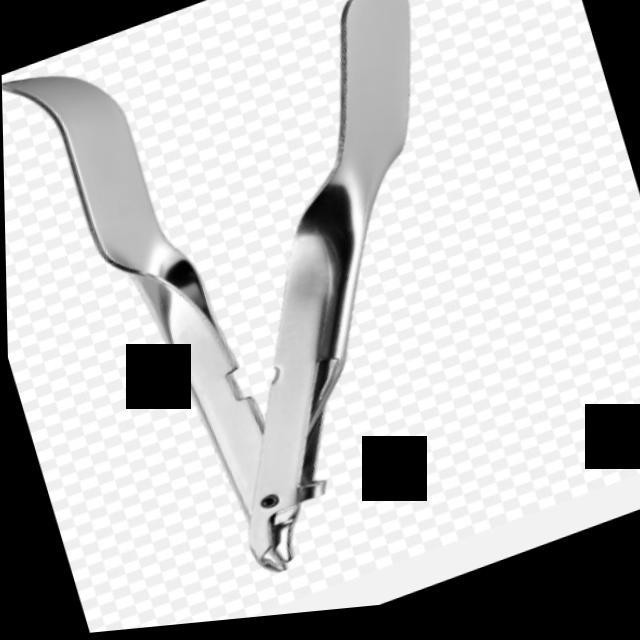Stapler Remover: (0, 0, 559, 633)
